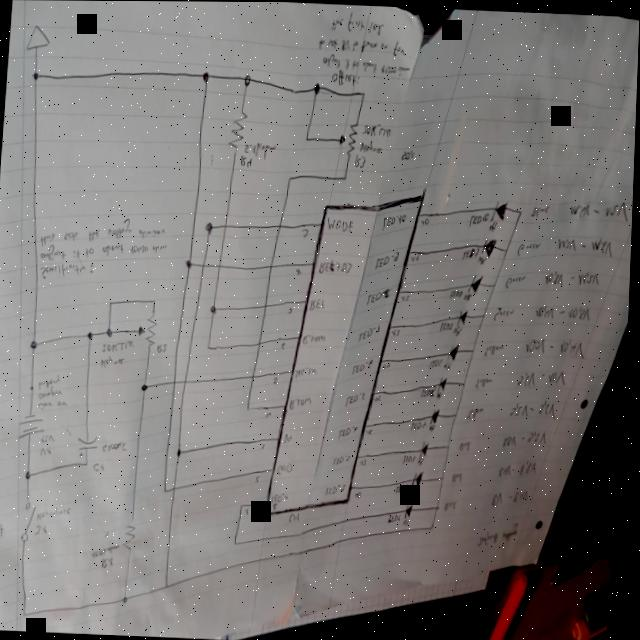capacitor: (78, 434, 101, 458)
crossover: (222, 221, 229, 230), (277, 221, 284, 230), (251, 372, 258, 380), (257, 339, 264, 347), (173, 378, 179, 386), (183, 377, 189, 385), (218, 261, 224, 269), (201, 260, 207, 268), (264, 301, 270, 309), (269, 261, 275, 269), (174, 485, 179, 491)
diode: (489, 197, 509, 231), (477, 236, 497, 265), (464, 272, 484, 301), (444, 341, 461, 370), (453, 308, 469, 336), (411, 469, 426, 495), (437, 375, 450, 399), (419, 440, 431, 465), (405, 502, 416, 527), (430, 407, 441, 431)
ground: (25, 22, 49, 50)
junction: (240, 73, 251, 88), (204, 220, 215, 234), (312, 81, 320, 95), (30, 339, 40, 350), (201, 71, 209, 84), (31, 69, 39, 81), (358, 88, 366, 100), (106, 326, 114, 337), (142, 382, 150, 392), (186, 259, 193, 269), (27, 470, 34, 480), (88, 330, 95, 340), (211, 304, 218, 314), (178, 447, 184, 458), (340, 173, 347, 182), (124, 595, 131, 604), (503, 245, 509, 254), (166, 582, 172, 590), (25, 610, 31, 618), (303, 134, 309, 142), (462, 379, 468, 387), (109, 299, 114, 307), (236, 538, 241, 546), (287, 174, 292, 182), (247, 404, 252, 412), (165, 486, 169, 494), (152, 296, 156, 304), (442, 473, 446, 481), (448, 442, 452, 450), (207, 344, 212, 350), (482, 312, 487, 318), (86, 461, 91, 467), (492, 282, 497, 288), (432, 524, 436, 530), (518, 208, 522, 214), (472, 346, 476, 352), (455, 412, 459, 418), (437, 504, 441, 510), (242, 501, 246, 507)
resistor: (227, 108, 247, 151), (137, 312, 159, 348), (337, 121, 358, 156), (125, 518, 139, 548)
source: (18, 411, 46, 440)
switch: (23, 499, 39, 542)
text: (40, 213, 167, 251), (40, 238, 168, 266), (320, 53, 410, 77), (315, 33, 405, 56), (522, 333, 587, 359), (566, 198, 630, 221), (328, 9, 384, 35), (554, 232, 613, 256), (479, 516, 521, 548), (40, 257, 95, 281), (541, 267, 600, 289), (508, 395, 559, 420), (530, 302, 593, 322), (516, 366, 568, 388), (501, 426, 550, 449), (498, 456, 540, 479), (492, 484, 531, 508), (240, 140, 276, 161), (318, 257, 354, 277), (329, 67, 361, 87), (39, 504, 73, 522), (102, 337, 136, 354), (361, 120, 392, 137), (357, 321, 382, 342), (375, 249, 400, 269), (328, 216, 355, 234), (93, 542, 123, 558), (366, 287, 391, 306), (516, 237, 542, 255), (358, 138, 384, 156), (493, 302, 516, 322), (482, 340, 506, 359), (382, 212, 407, 230), (504, 271, 528, 289), (289, 394, 314, 411), (39, 398, 70, 411), (466, 403, 487, 422), (351, 358, 374, 375), (103, 439, 129, 454), (302, 331, 328, 346), (39, 373, 63, 389), (468, 210, 489, 228), (102, 354, 126, 369), (529, 203, 551, 219), (338, 424, 360, 440), (296, 364, 319, 379), (475, 374, 495, 391), (39, 386, 65, 399), (346, 390, 367, 406), (461, 246, 480, 261), (326, 482, 346, 496), (421, 384, 438, 400), (238, 151, 254, 168), (333, 453, 351, 467), (310, 295, 326, 310), (274, 491, 290, 506), (278, 461, 295, 475), (353, 154, 368, 169), (412, 418, 428, 432), (389, 511, 404, 524), (0, 521, 8, 545), (459, 439, 473, 452), (444, 498, 459, 510), (449, 287, 464, 299), (396, 481, 411, 493), (429, 357, 444, 369), (440, 320, 454, 332), (42, 433, 55, 445), (104, 555, 116, 568), (41, 445, 54, 457), (37, 522, 49, 535), (401, 148, 414, 160), (404, 453, 418, 464), (291, 512, 303, 524), (452, 471, 464, 483), (157, 342, 169, 354), (95, 462, 107, 473), (285, 431, 295, 444), (400, 292, 412, 302), (410, 251, 420, 262), (375, 393, 385, 403), (301, 227, 310, 238), (356, 489, 365, 499), (360, 456, 369, 465), (420, 216, 429, 225), (287, 305, 296, 314), (266, 409, 274, 419), (273, 376, 281, 385), (367, 426, 376, 434), (383, 361, 392, 369), (393, 327, 402, 335), (281, 340, 287, 350), (296, 266, 302, 276), (262, 441, 267, 450), (247, 506, 252, 515), (257, 474, 262, 482)
